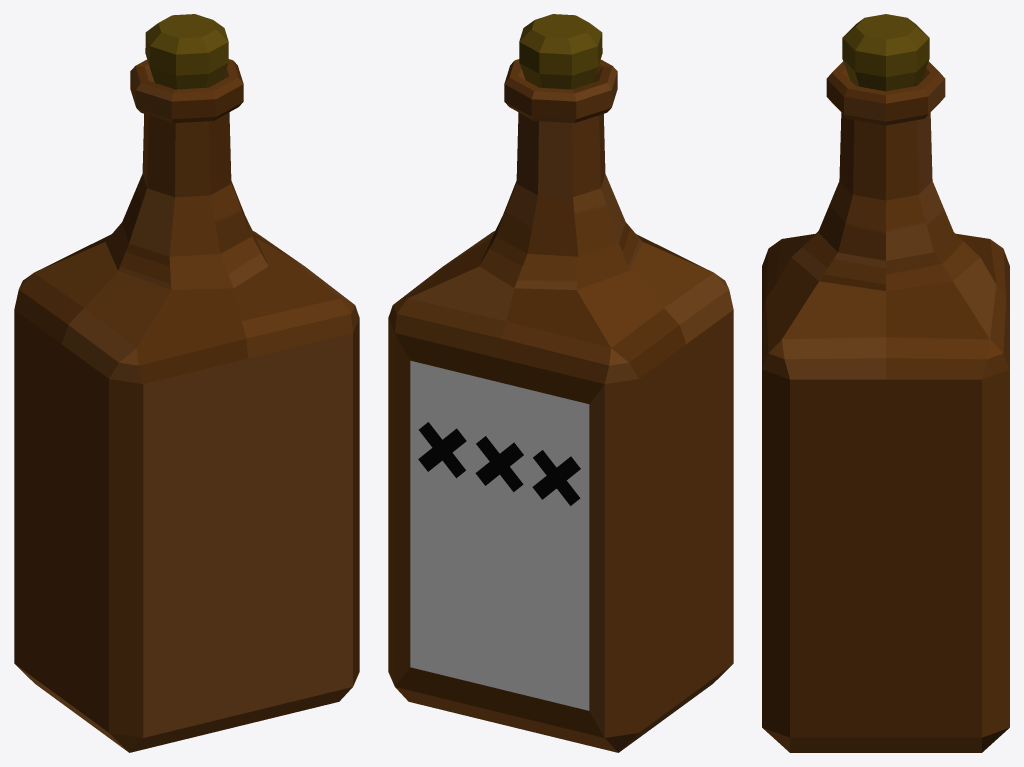
File: stamina-potion.fbx
3 renders of one model, left to right at view 1: azimuth 30°, elevation 25°; view 2: azimuth 150°, elevation 25°; view 3: azimuth 270°, elevation 25°, orthographic.
Visible parts, largest first — view 1: Cube; view 2: Cube; view 3: Cube.
Part boxes in pixels (x1,y1,x2,y2): Cube: (14, 14, 359, 752); Cube: (388, 14, 733, 752); Cube: (762, 14, 1009, 752).
Bounding box in the file's own units: 144 × 170 × 432.
